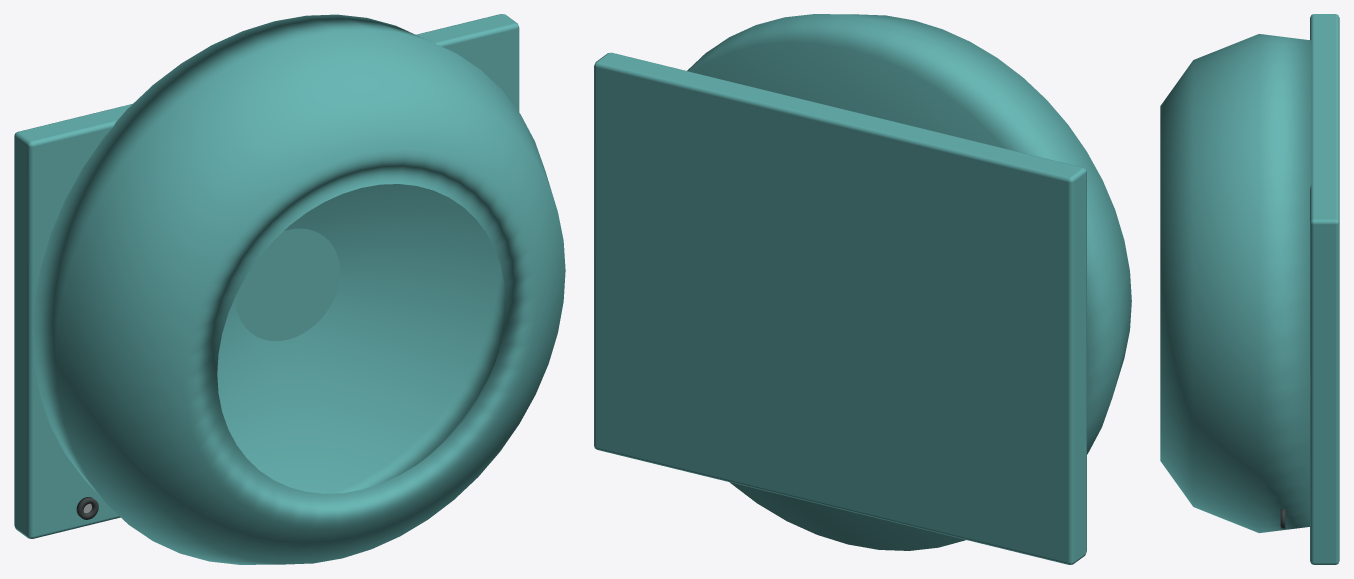
Rendered from indoor-climbing-and-bouldering-gym-indoor-climbing-and-4f588bbf__31524.glb.
3 views of the same model, side by side, from view 1: azimuth 30°, elevation 25°; view 2: azimuth 150°, elevation 25°; view 3: azimuth 270°, elevation 25° (orthographic). The views are drawn at different scales.
Parts seen in each view (by area): view 1: indoor-climbing-and-bouldering-gym-scooped-climbing-volume; view 2: indoor-climbing-and-bouldering-gym-scooped-climbing-volume; view 3: indoor-climbing-and-bouldering-gym-scooped-climbing-volume.
Boxes of the visible parts, bbox=[...] form: indoor-climbing-and-bouldering-gym-scooped-climbing-volume: bbox=[14, 14, 565, 564]; indoor-climbing-and-bouldering-gym-scooped-climbing-volume: bbox=[594, 14, 1131, 564]; indoor-climbing-and-bouldering-gym-scooped-climbing-volume: bbox=[1160, 14, 1339, 564].
Size of the model in its own units: 0.76 by 0.76 by 0.2725.
